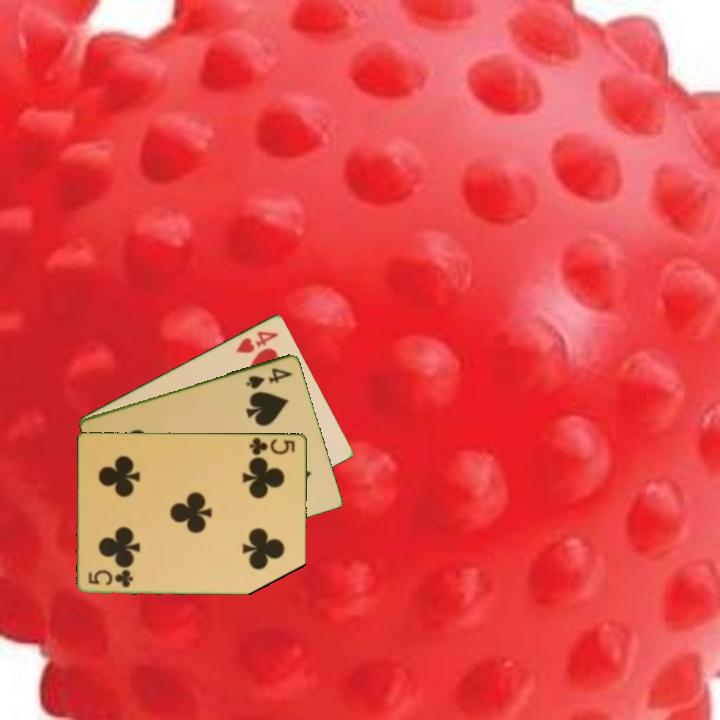4h: (232, 327, 281, 356)
4s: (242, 364, 295, 391)
5c: (246, 434, 298, 458), (85, 567, 136, 590)
